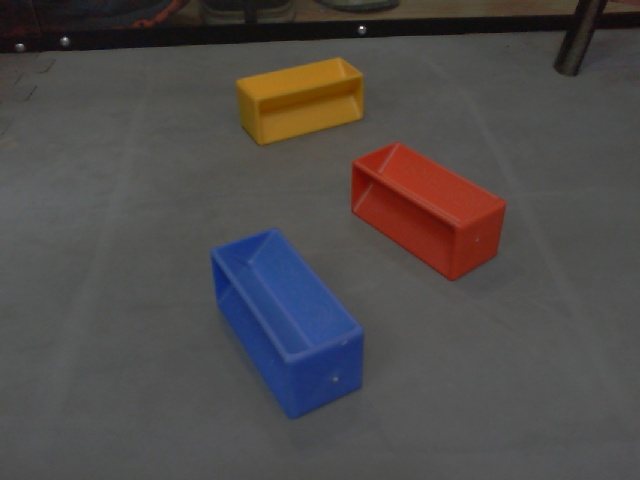BlueSample: (210, 225, 366, 421)
RedSample: (349, 140, 509, 283)
YellowSample: (235, 54, 367, 147)
